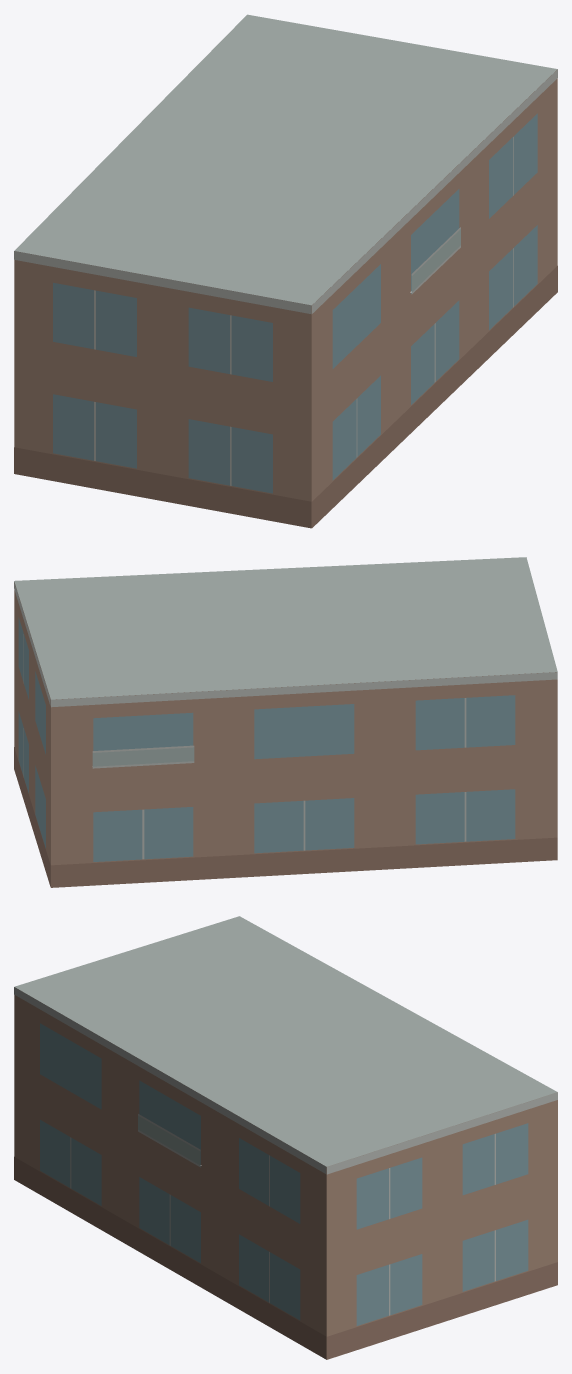
The model's file is survey-upis-32867646.glb.
3 renders of one model, top to bottom at view 1: azimuth 30°, elevation 25°; view 2: azimuth 150°, elevation 25°; view 3: azimuth 270°, elevation 25°, orthographic. The views are drawn at different scales.
Visible parts, largest first — view 1: survey-upis-32867646.tmp; view 2: survey-upis-32867646.tmp; view 3: survey-upis-32867646.tmp.
Boxes of the visible parts, box(x1,y1,x2,y2) form: survey-upis-32867646.tmp: box(14, 14, 557, 528); survey-upis-32867646.tmp: box(14, 557, 557, 887); survey-upis-32867646.tmp: box(14, 916, 557, 1359).
Bounding box in the file's own units: 17.01 × 6.1 × 15.59.
